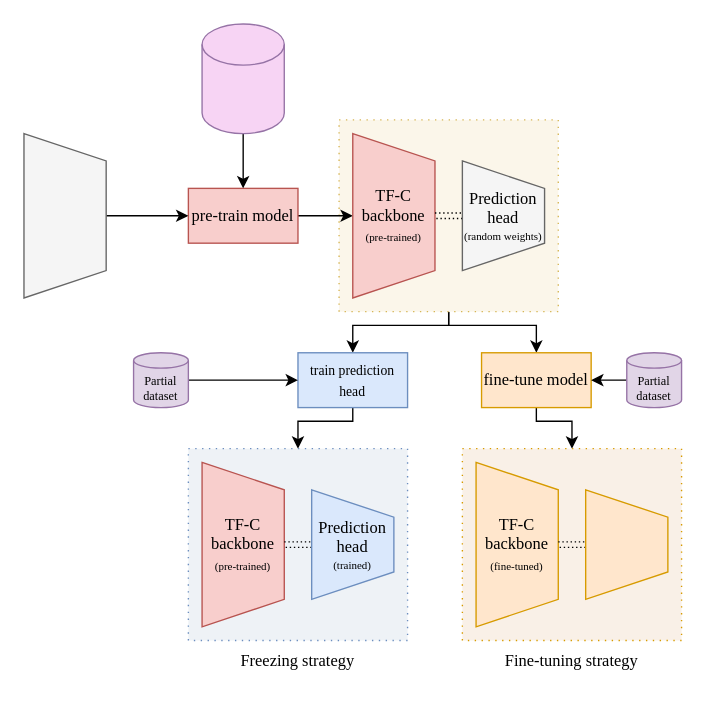
This 706x706 diagram has some shape labels left out. The shapes that lost their labels are listed below. From the top down, each one's box as (x1, y1, x2, y2) in pixels, then its label:
(201, 23, 284, 134): Full dataset without labels
(23, 132, 106, 298): TF-C backbone (random weights)
(584, 488, 668, 599): Prediction head (fine-tuned)
